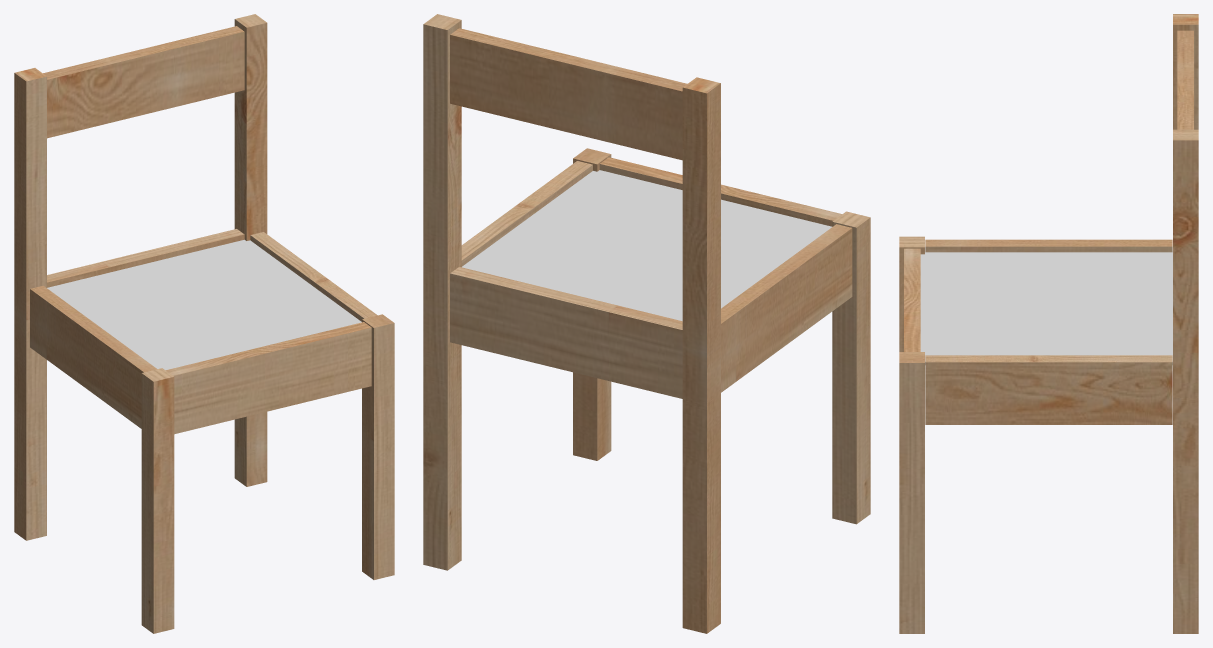
File: sh_scopia_children_chair.glb
3 renders of one model, left to right at view 1: azimuth 30°, elevation 25°; view 2: azimuth 150°, elevation 25°; view 3: azimuth 270°, elevation 25°, orthographic. The views are drawn at different scales.
Bounding box in the file's own units: 0.28 × 0.51 × 0.28.
Materials: 2 (1 with a texture image).
